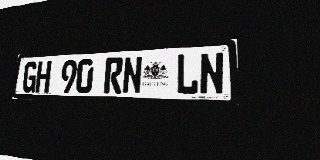0: (75, 58, 94, 93)
9: (60, 59, 78, 93)
G: (22, 61, 38, 93)
H: (35, 61, 52, 93)
L: (175, 53, 199, 95)
N: (199, 52, 224, 95), (122, 56, 143, 94)
R: (103, 57, 123, 94)
